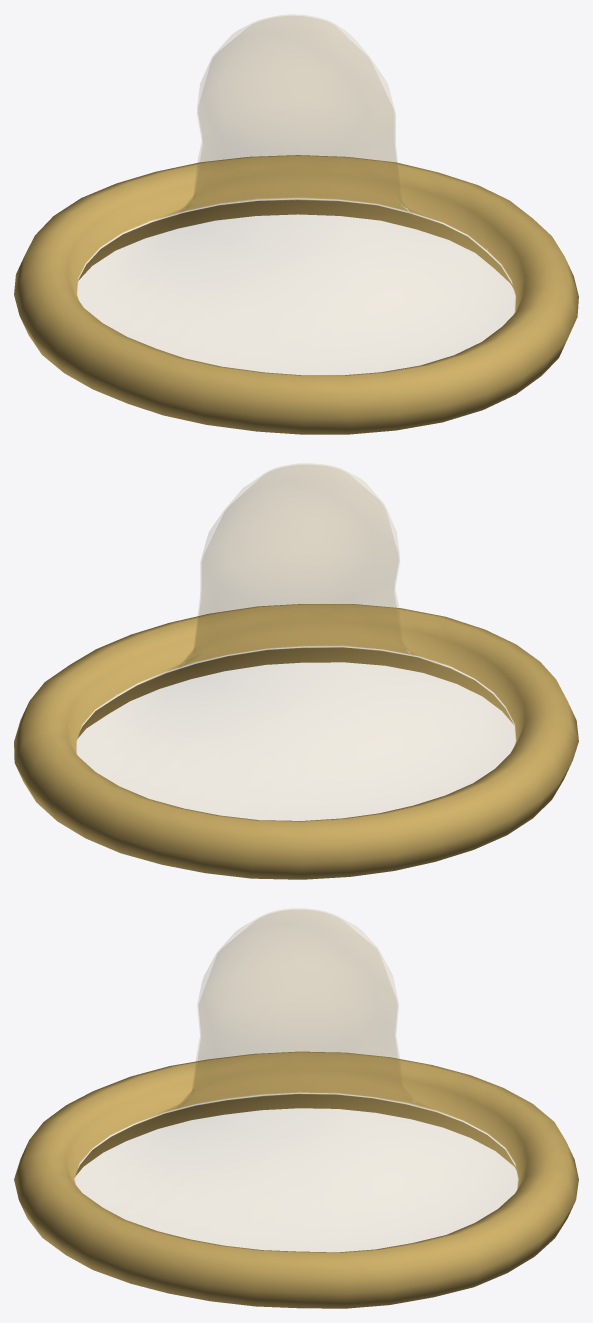
3 renders of one model, top to bottom at view 1: azimuth 30°, elevation 25°; view 2: azimuth 150°, elevation 25°; view 3: azimuth 270°, elevation 25°, orthographic. The views are drawn at different scales.
Visible parts, largest first — view 1: Condom; view 2: Condom; view 3: Condom.
Boxes of the visible parts, left/top/right/bottom form: Condom: left=14, top=15, right=578, bottom=434; Condom: left=14, top=464, right=578, bottom=879; Condom: left=14, top=909, right=578, bottom=1308.
Size of the model in its own units: 0.0424 by 0.025 by 0.0448.
Materials: 1 (1 with a texture image).
